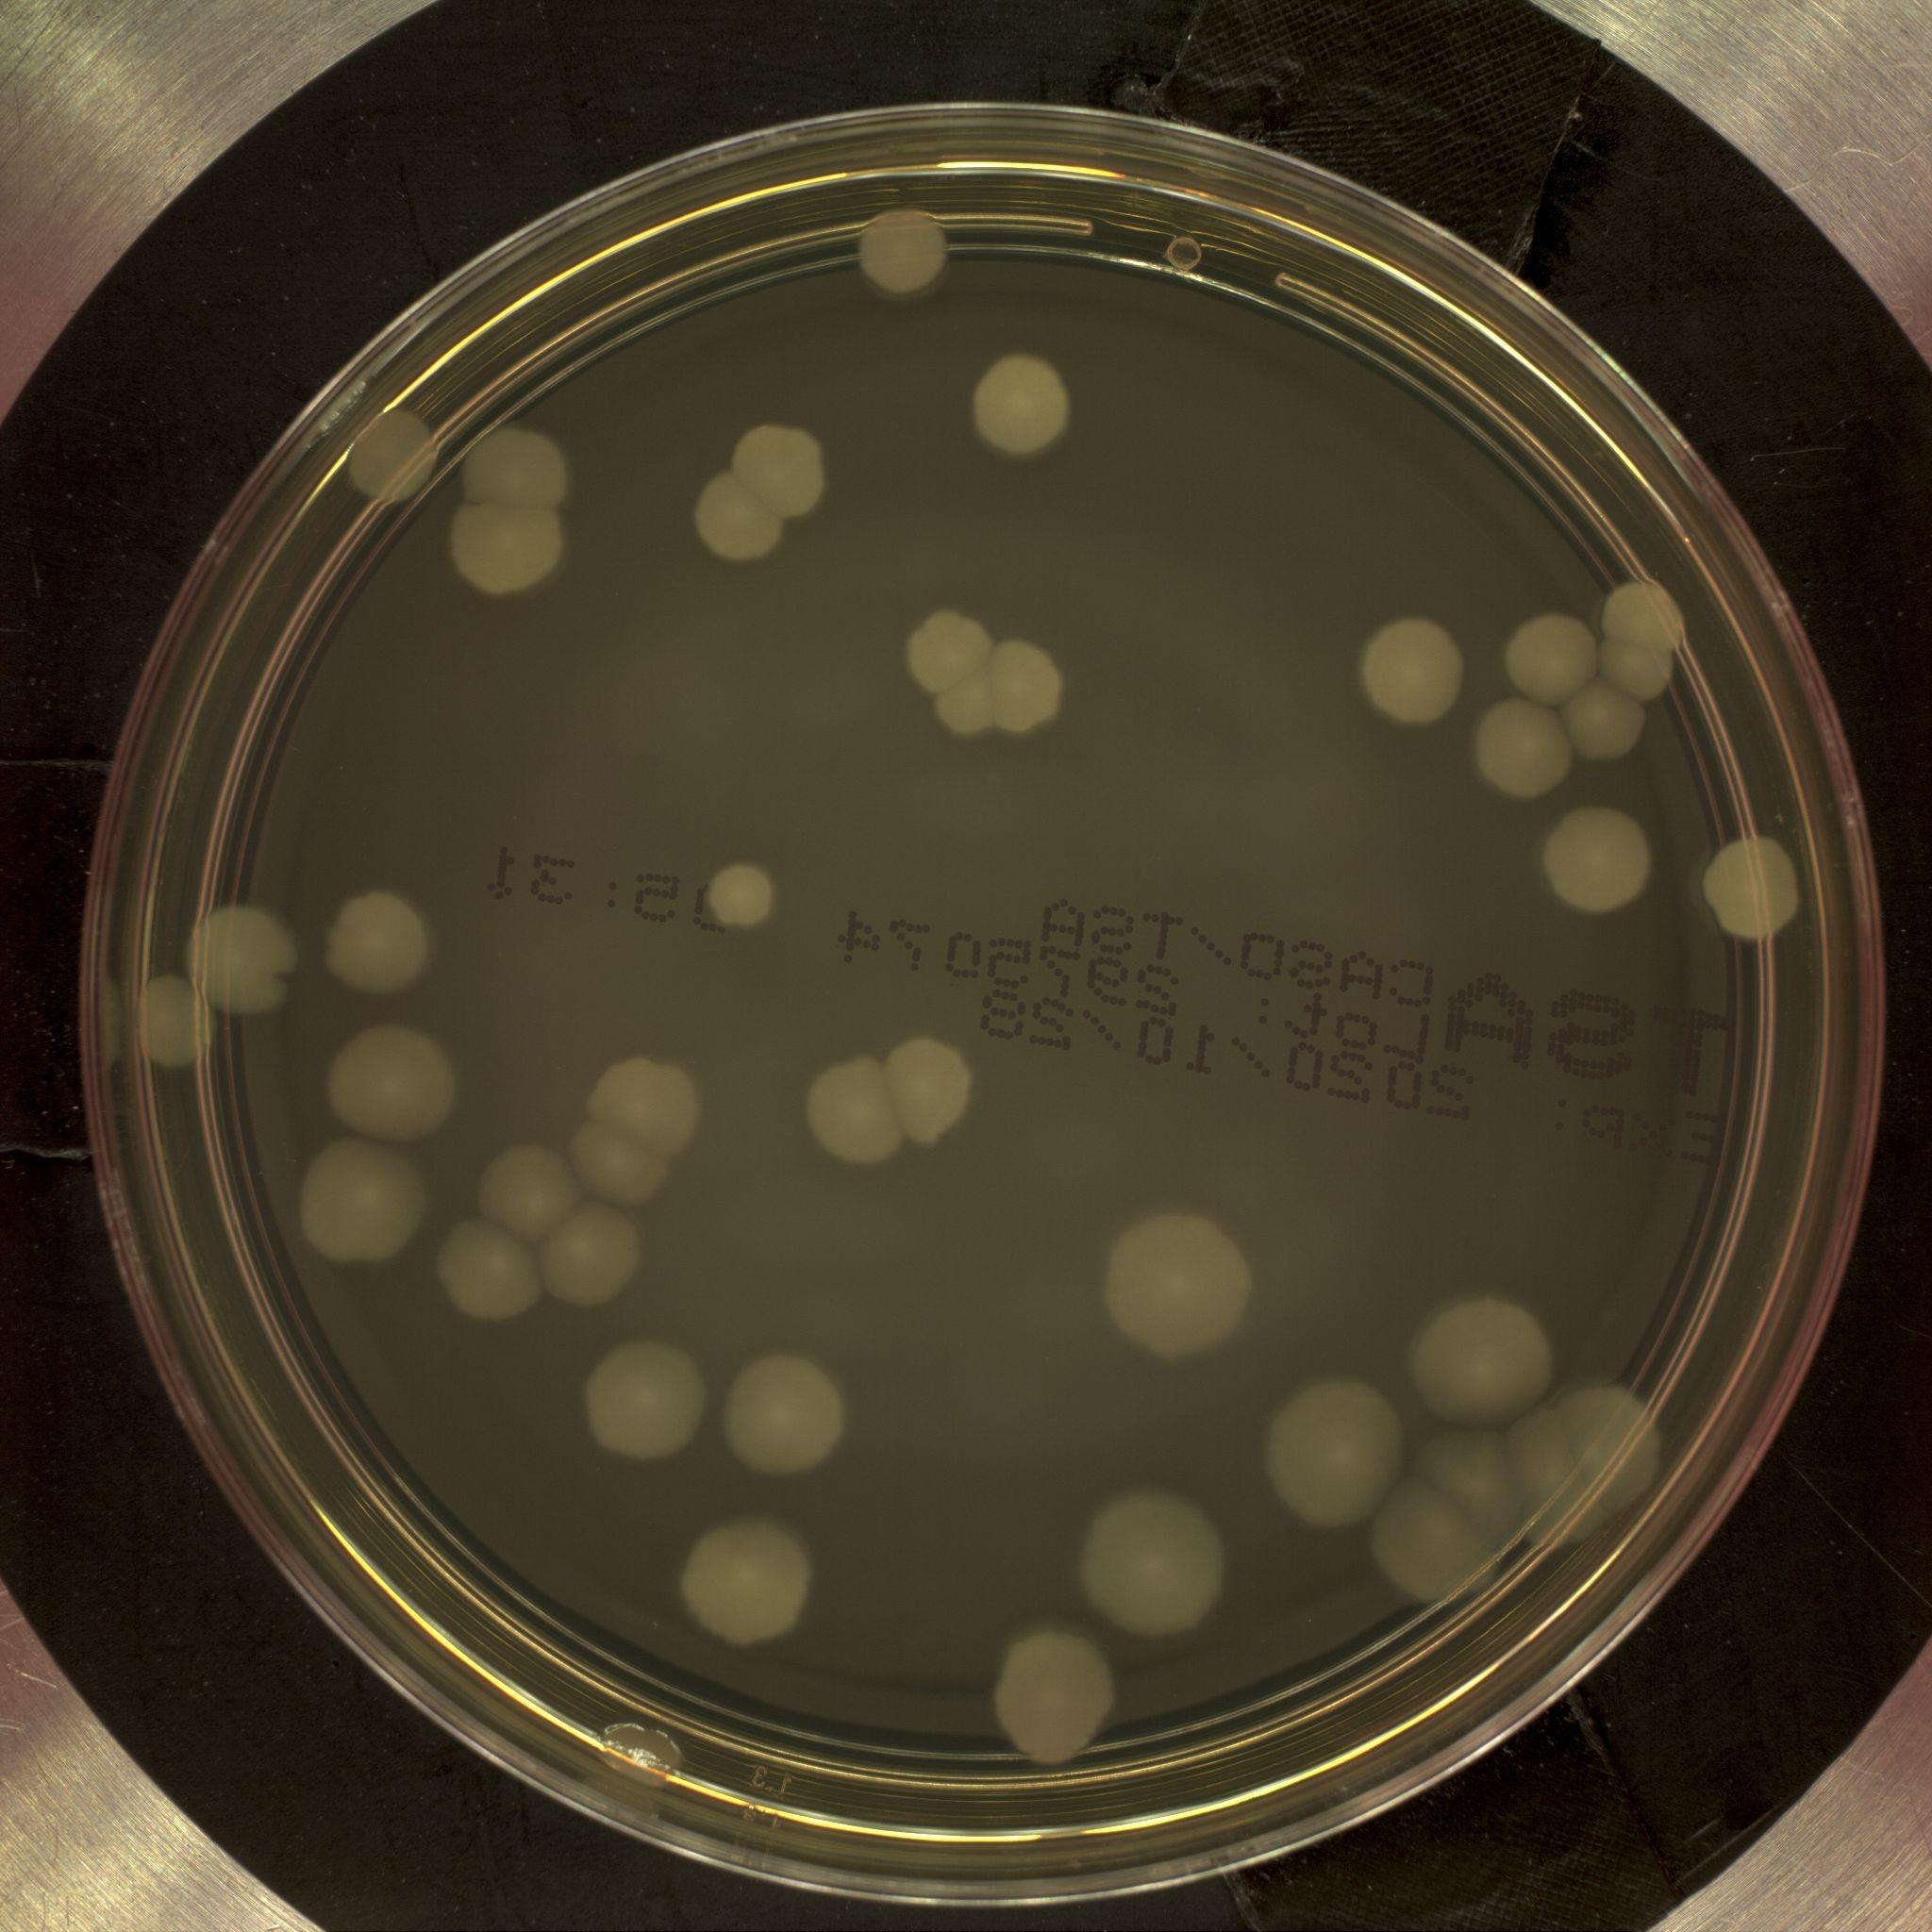e. coli: (1432, 1394, 1666, 1536), (1102, 1206, 1257, 1357), (1260, 1370, 1408, 1526), (673, 1517, 822, 1643), (1418, 1294, 1562, 1424), (1083, 1505, 1222, 1637), (996, 1632, 1121, 1766), (583, 1055, 691, 1206), (1371, 1486, 1498, 1608), (724, 1354, 852, 1472), (588, 1335, 704, 1462), (298, 1146, 427, 1259), (336, 1030, 465, 1140), (1539, 804, 1663, 915), (939, 634, 1072, 738), (456, 500, 574, 604), (1355, 613, 1462, 724), (1701, 838, 1814, 941), (440, 1219, 548, 1321), (192, 906, 295, 1011), (812, 1061, 918, 1165), (1597, 574, 1685, 698), (882, 1038, 984, 1143), (1474, 696, 1575, 802), (849, 200, 958, 297), (1501, 602, 1604, 703), (468, 432, 574, 530), (347, 404, 444, 509), (479, 1141, 576, 1243), (328, 896, 435, 989), (729, 423, 831, 519), (977, 354, 1071, 458), (543, 1198, 638, 1297), (1559, 675, 1661, 766), (696, 472, 789, 566), (130, 972, 220, 1066), (902, 611, 993, 698), (701, 868, 784, 934)
